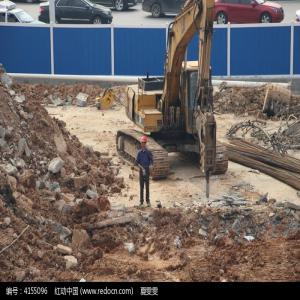red: (141, 137, 148, 150)
